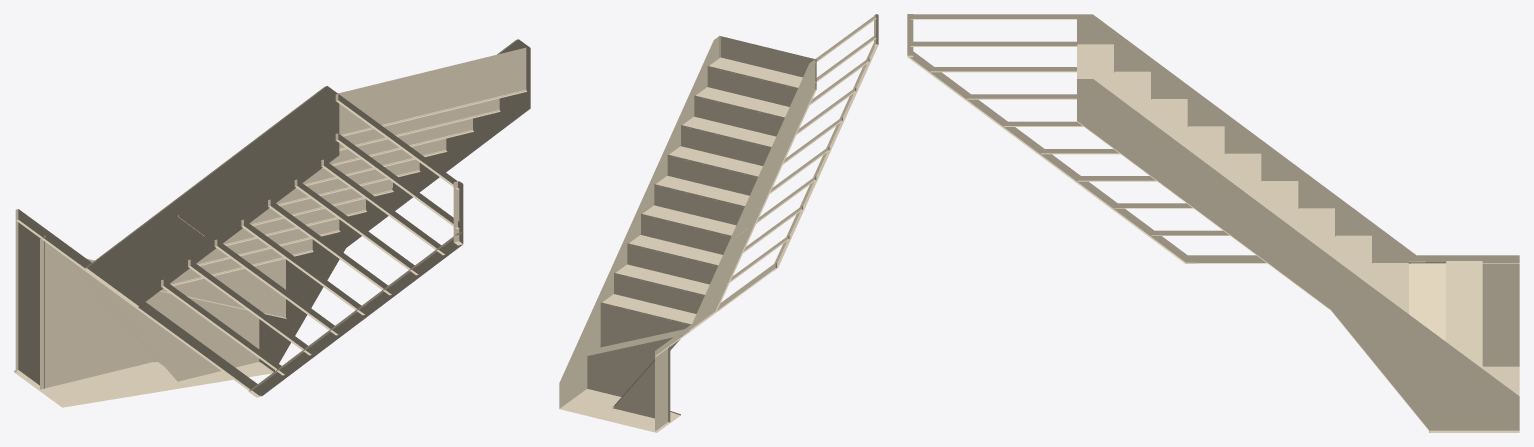
The model's file is house1-basement-firstfloor-vertical-interface.glb.
3 views of the same model, side by side, from view 1: azimuth 30°, elevation 25°; view 2: azimuth 150°, elevation 25°; view 3: azimuth 270°, elevation 25° (orthographic). The views are drawn at different scales.
Visible parts, largest first — view 1: source::curveStaircase.obj::Bord_4, source::curveStaircase.obj::Marche_10, source::curveStaircase.obj::Marche_7, source::curveStaircase.obj::Bord_2, source::curveStaircase.obj::Marche_11, source::curveStaircase.obj::Bord_3, source::curveStaircase.obj::Cote, source::curveStaircase.obj::Rampe, source::curveStaircase.obj::Marche_12, source::curveStaircase.obj::Rampe_11, source::curveStaircase.obj::Marche_6, source::curveStaircase.obj::Marche_5 (+17 smaller); view 2: source::curveStaircase.obj::Bord_4, source::curveStaircase.obj::Bord_2, source::curveStaircase.obj::Marche_11, source::curveStaircase.obj::Cote, source::curveStaircase.obj::Marche_12, source::curveStaircase.obj::Bord_3, source::curveStaircase.obj::Marche_7, source::curveStaircase.obj::Marche, source::curveStaircase.obj::Marche_5, source::curveStaircase.obj::Marche_1, source::curveStaircase.obj::Marche_3, source::curveStaircase.obj::Marche_9 (+21 smaller); view 3: source::curveStaircase.obj::Bord_2, source::curveStaircase.obj::Bord_4, source::curveStaircase.obj::Cote, source::curveStaircase.obj::Cote_10, source::curveStaircase.obj::Rampe_11, source::curveStaircase.obj::Cote_9, source::curveStaircase.obj::Rampe, source::curveStaircase.obj::Cote_6, source::curveStaircase.obj::Cote_7, source::curveStaircase.obj::Cote_2, source::curveStaircase.obj::Cote_3, source::curveStaircase.obj::Cote_1 (+8 smaller).
Part boxes in pixels (left/top/right/bottom): source::curveStaircase.obj::Bord_4: left=84, top=86, right=339, bottom=306; source::curveStaircase.obj::Marche_10: left=40, top=238, right=154, bottom=390; source::curveStaircase.obj::Marche_7: left=338, top=47, right=527, bottom=136; source::curveStaircase.obj::Bord_2: left=260, top=39, right=530, bottom=370; source::curveStaircase.obj::Marche_11: left=69, top=257, right=260, bottom=382; source::curveStaircase.obj::Bord_3: left=14, top=360, right=274, bottom=407; source::curveStaircase.obj::Cote: left=15, top=219, right=313, bottom=389; source::curveStaircase.obj::Rampe: left=15, top=209, right=260, bottom=395; source::curveStaircase.obj::Marche_12: left=160, top=259, right=287, bottom=318; source::curveStaircase.obj::Rampe_11: left=248, top=232, right=463, bottom=397; source::curveStaircase.obj::Marche_6: left=339, top=98, right=500, bottom=150; source::curveStaircase.obj::Marche_5: left=321, top=118, right=474, bottom=168; source::curveStaircase.obj::Bord_4: left=689, top=59, right=816, bottom=330; source::curveStaircase.obj::Bord_2: left=559, top=36, right=720, bottom=407; source::curveStaircase.obj::Marche_11: left=586, top=337, right=680, bottom=397; source::curveStaircase.obj::Cote: left=601, top=293, right=696, bottom=431; source::curveStaircase.obj::Marche_12: left=600, top=302, right=690, bottom=347; source::curveStaircase.obj::Bord_3: left=559, top=388, right=680, bottom=432; source::curveStaircase.obj::Marche_7: left=720, top=36, right=814, bottom=76; source::curveStaircase.obj::Marche: left=613, top=273, right=704, bottom=312; source::curveStaircase.obj::Marche_5: left=693, top=95, right=784, bottom=135; source::curveStaircase.obj::Marche_1: left=653, top=184, right=744, bottom=224; source::curveStaircase.obj::Marche_3: left=640, top=213, right=731, bottom=253; source::curveStaircase.obj::Marche_9: left=680, top=125, right=771, bottom=165; source::curveStaircase.obj::Bord_2: left=1077, top=79, right=1519, bottom=431; source::curveStaircase.obj::Bord_4: left=1078, top=14, right=1424, bottom=262; source::curveStaircase.obj::Cote: left=1372, top=261, right=1519, bottom=367; source::curveStaircase.obj::Cote_10: left=1446, top=261, right=1482, bottom=368; source::curveStaircase.obj::Rampe_11: left=908, top=51, right=1196, bottom=263; source::curveStaircase.obj::Cote_9: left=1409, top=262, right=1445, bottom=341; source::curveStaircase.obj::Rampe: left=1186, top=255, right=1519, bottom=263; source::curveStaircase.obj::Cote_6: left=1077, top=43, right=1113, bottom=93; source::curveStaircase.obj::Cote_7: left=1262, top=179, right=1298, bottom=231; source::curveStaircase.obj::Cote_2: left=1225, top=152, right=1261, bottom=203; source::curveStaircase.obj::Cote_3: left=1299, top=206, right=1334, bottom=258; source::curveStaircase.obj::Cote_1: left=1151, top=97, right=1187, bottom=148.
Bounding box in the file's own units: 92 × 231 × 362.
